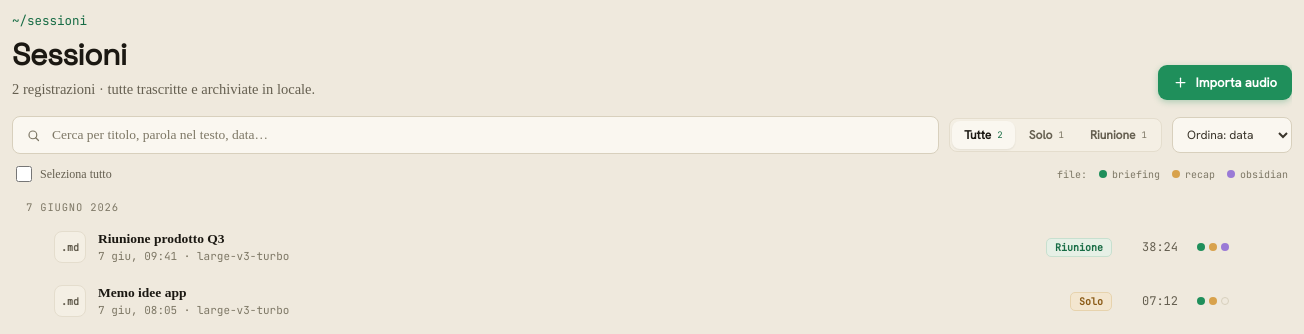
it: ScreenSessions › filtro Solo mostra solo le sessioni mode=solo
Expected: the text "Riunione prodotto Q3" is shown, [98,231,224,247]
Click the button "Solo 1" at point(1046, 135), box [1017,121,1076,149]
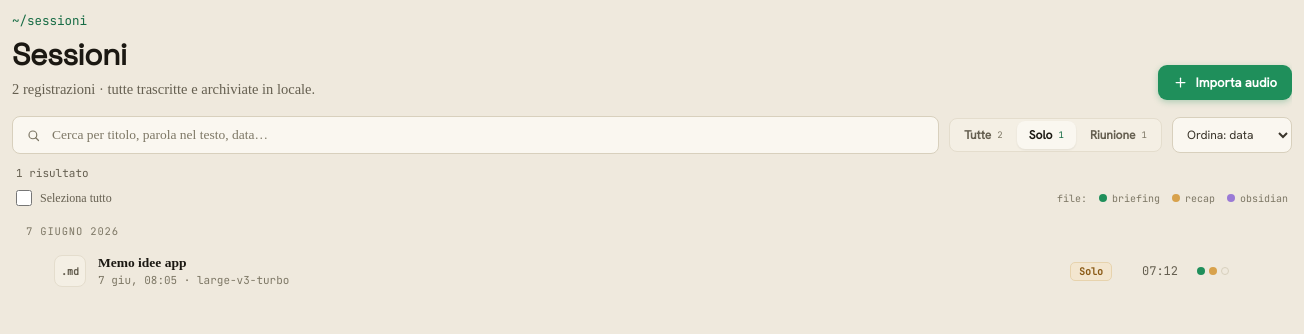
Expected: the text "Memo idee app" is shown, [98,255,186,271]
Expected: the button "Riunione prodotto Q3" is gone
